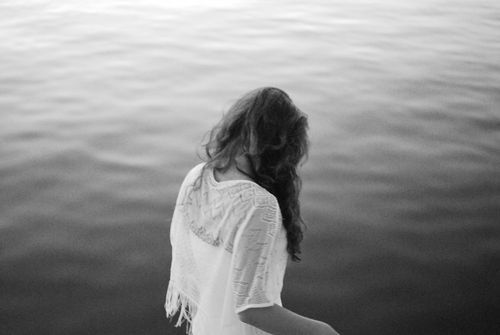Humano: (163, 75, 345, 335)
